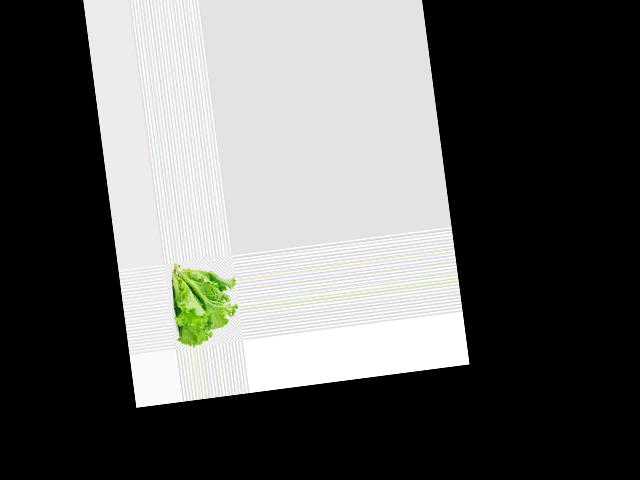lettuce: (169, 255, 242, 347)
